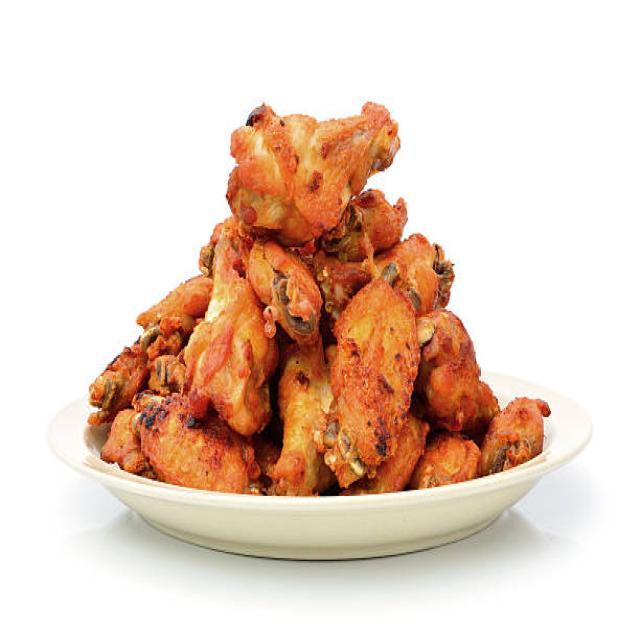Frango: (90, 102, 549, 494)
